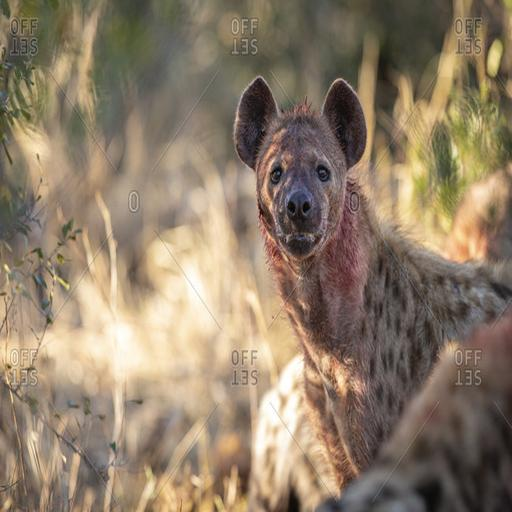Hyena: (230, 73, 512, 512)
